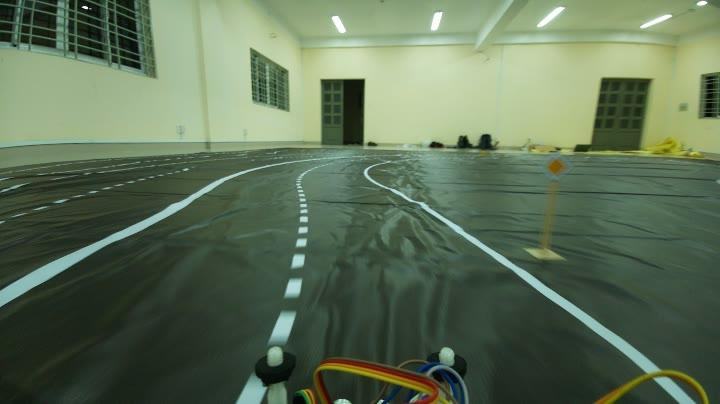priority: (543, 148, 567, 184)
